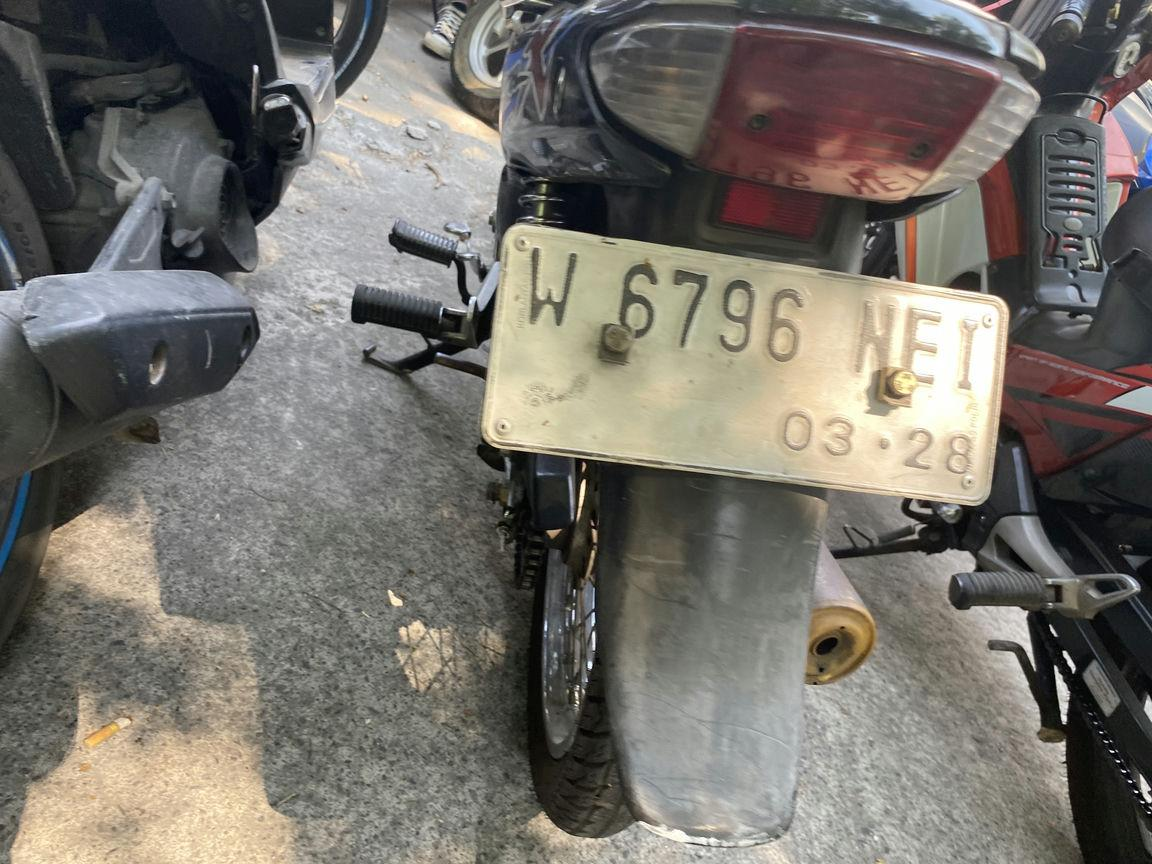plat: (482, 223, 1008, 506)
